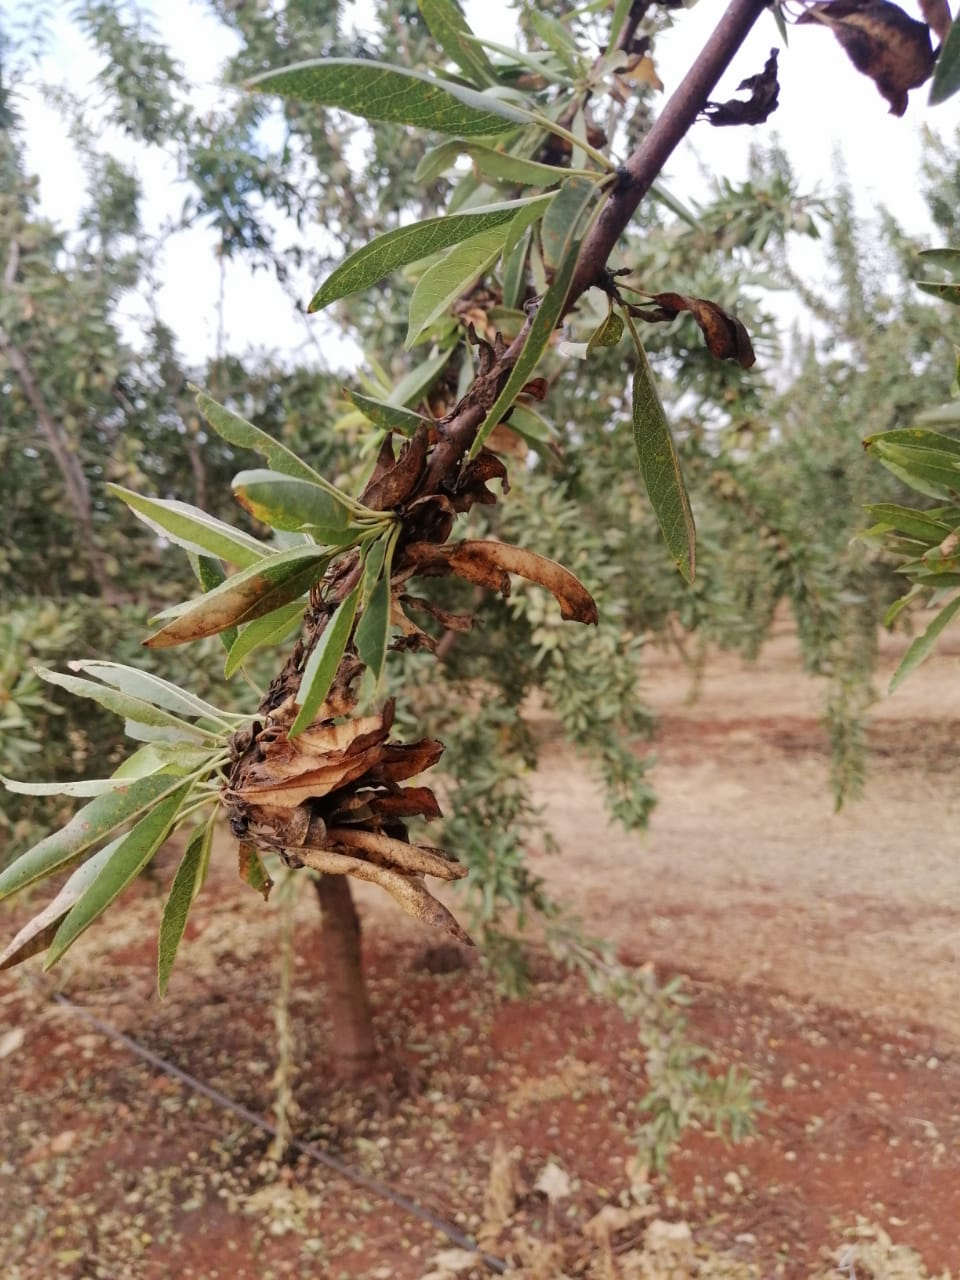scolytes: (229, 299, 575, 948)
